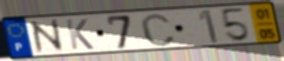1: (198, 8, 221, 46)
5: (218, 6, 253, 43)
7: (106, 14, 134, 50)
C: (138, 12, 177, 48)
K: (64, 18, 97, 51)
N: (27, 17, 68, 56)
